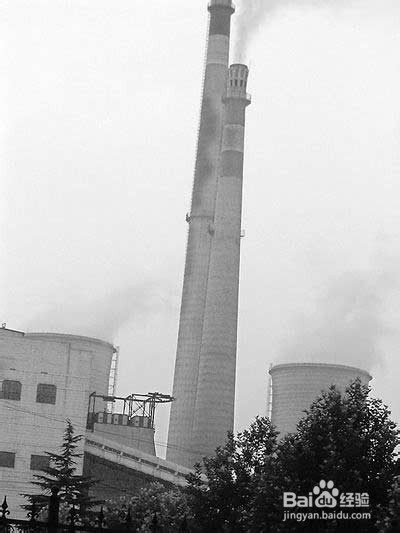dust: (228, 1, 284, 68)
